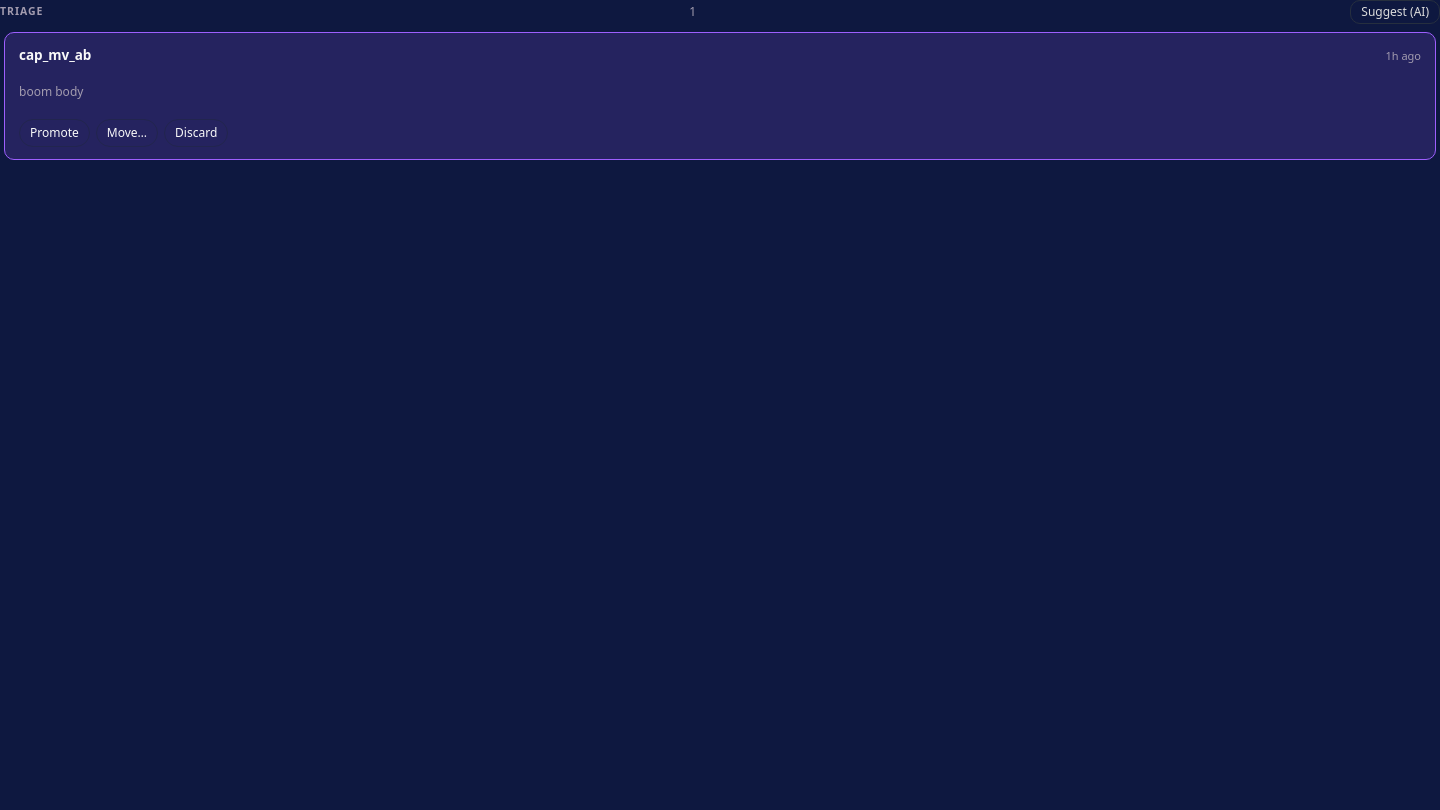
Test: TriageView action flows (Task 4 wiring) › a failed move apply closes the dialog and surfaces the error line section-level
The image size is (1440, 810).
Press m
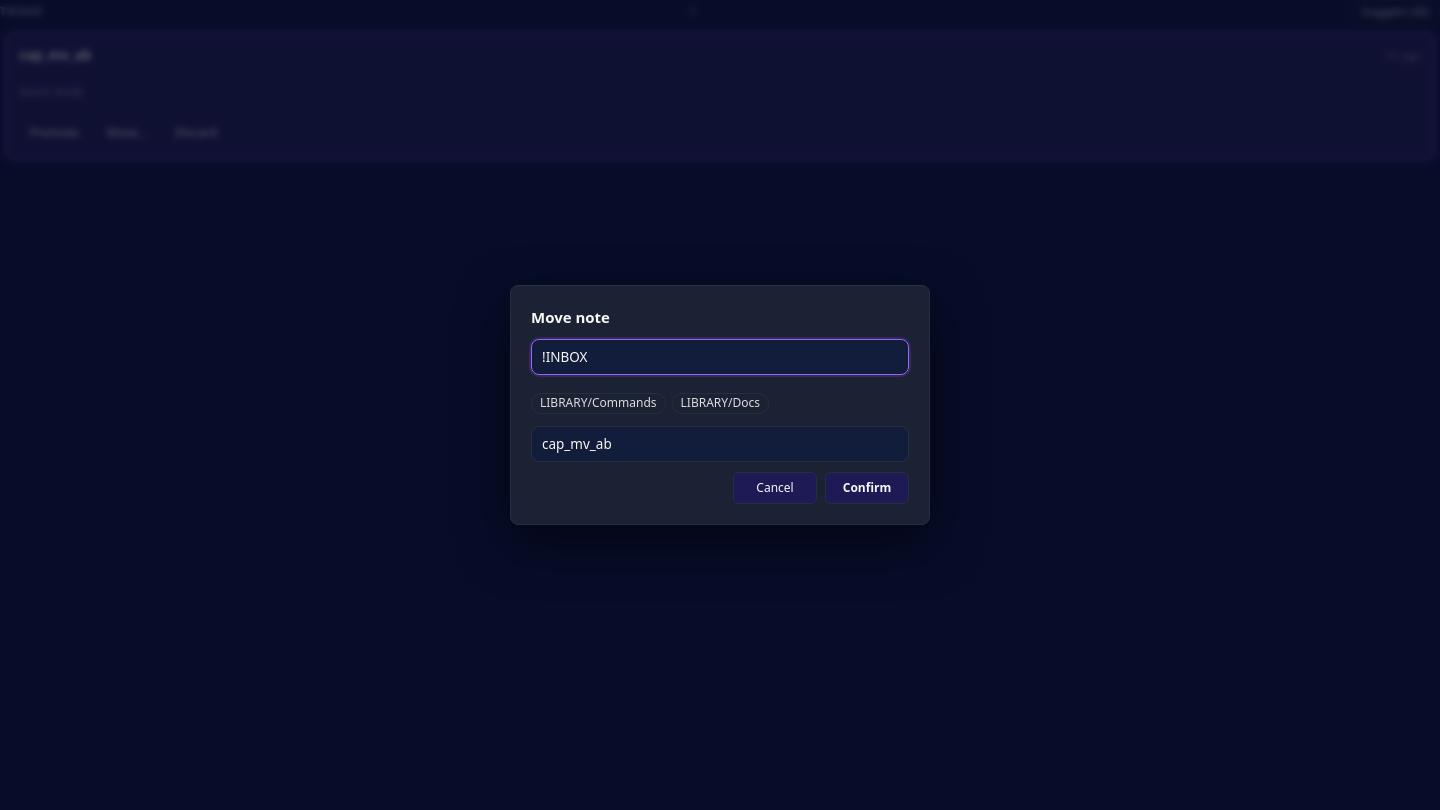
Click the button "Confirm": (867, 488) [825,472,909,504]
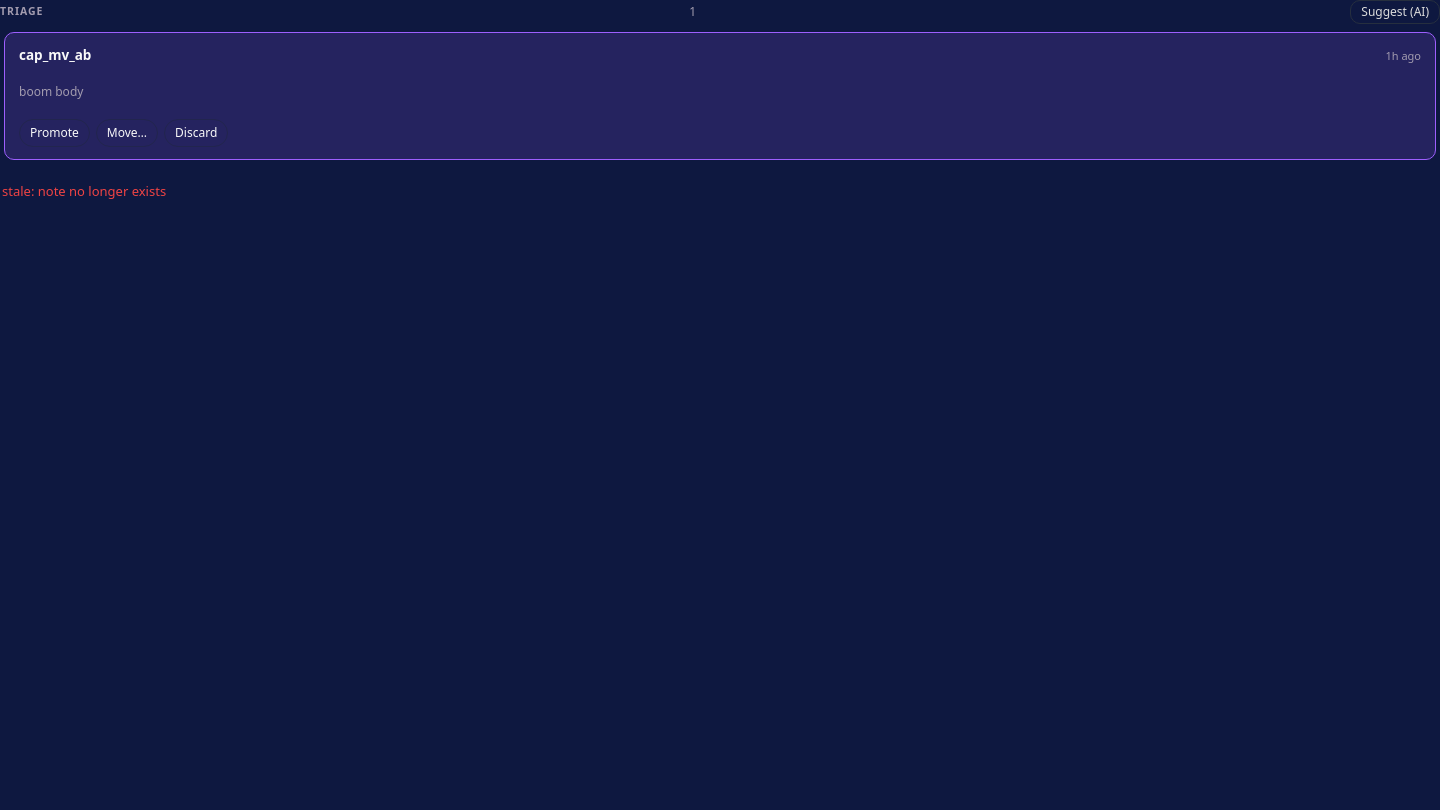
Check: the dialog is gone
